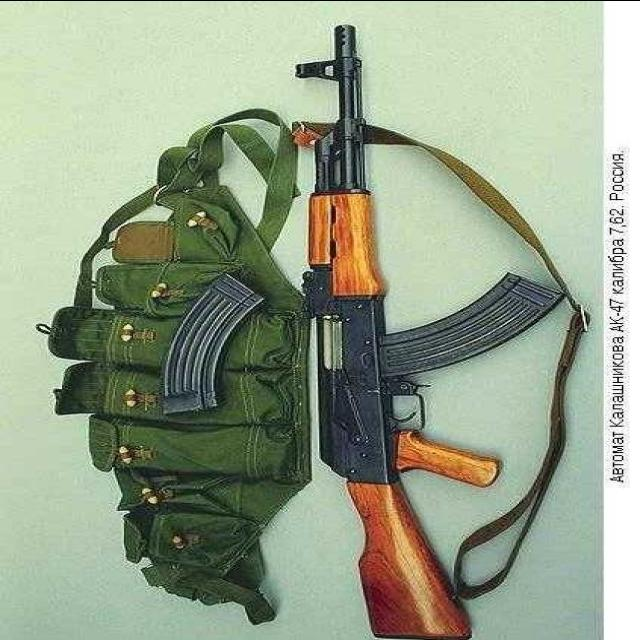heavyweapon: (292, 13, 572, 640)
